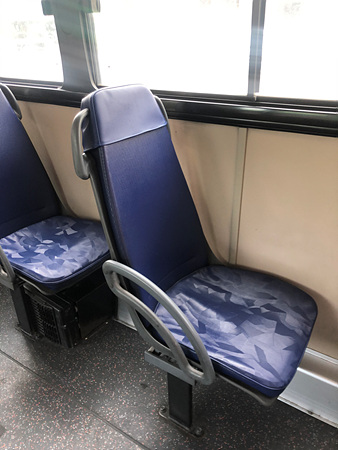seat: (81, 86, 317, 397)
